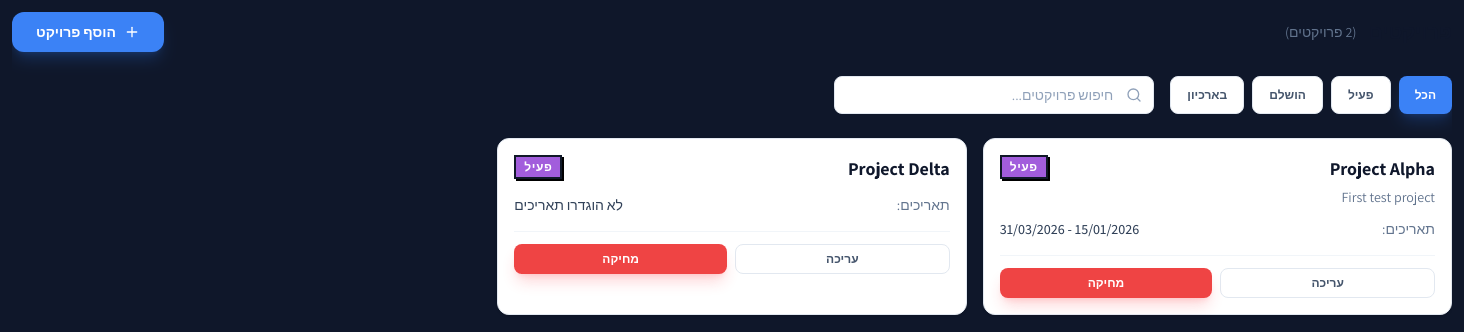
Test: ProjectsList › status filter › shows empty state when filter yields no results
Filter to archived (which has no projects)
Click the button "בארכיון" at x=1207, y=95, box [1170,76,1244,114]
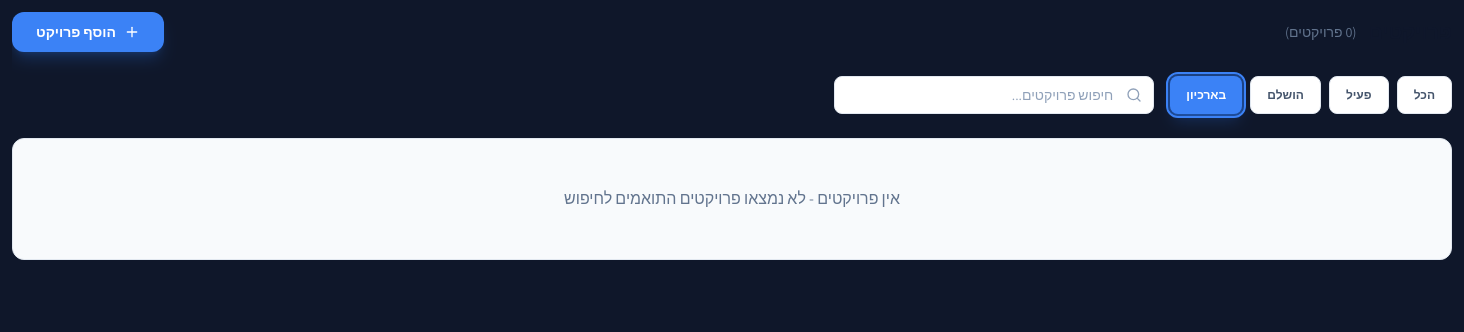
Expected: the text "אין פרויקטים - לא נמצאו פרויקטים התואמים לחיפוש" is shown, [564,187,900,211]
